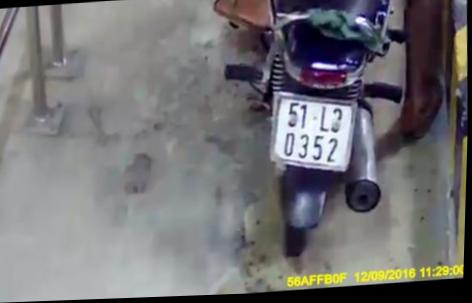LP: (266, 85, 366, 181)
